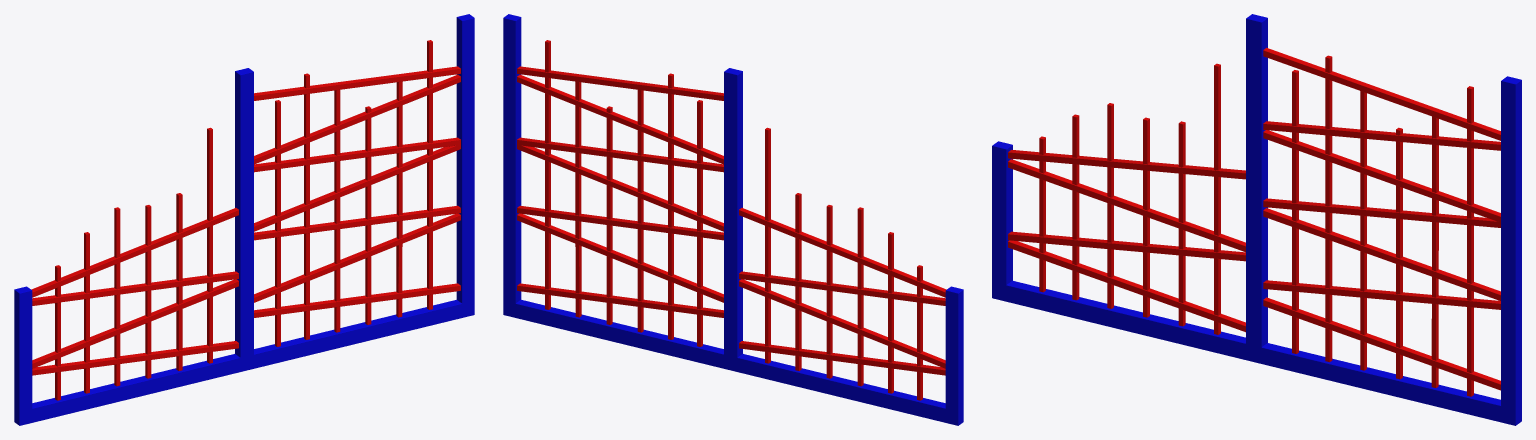
The model's file is 3D_Reja_1.fbx.
3 views of the same model, side by side, from view 1: azimuth 30°, elevation 25°; view 2: azimuth 150°, elevation 25°; view 3: azimuth 330°, elevation 25° (orthographic). The views are drawn at different scales.
Parts seen in each view (by area): view 1: Reja_1; view 2: Reja_1; view 3: Reja_1.
Part boxes in pixels (bbox=[...]): Reja_1: bbox=[14, 14, 474, 425]; Reja_1: bbox=[503, 14, 963, 425]; Reja_1: bbox=[992, 14, 1521, 425].
Size of the model in its own units: 480 by 299 by 10.
